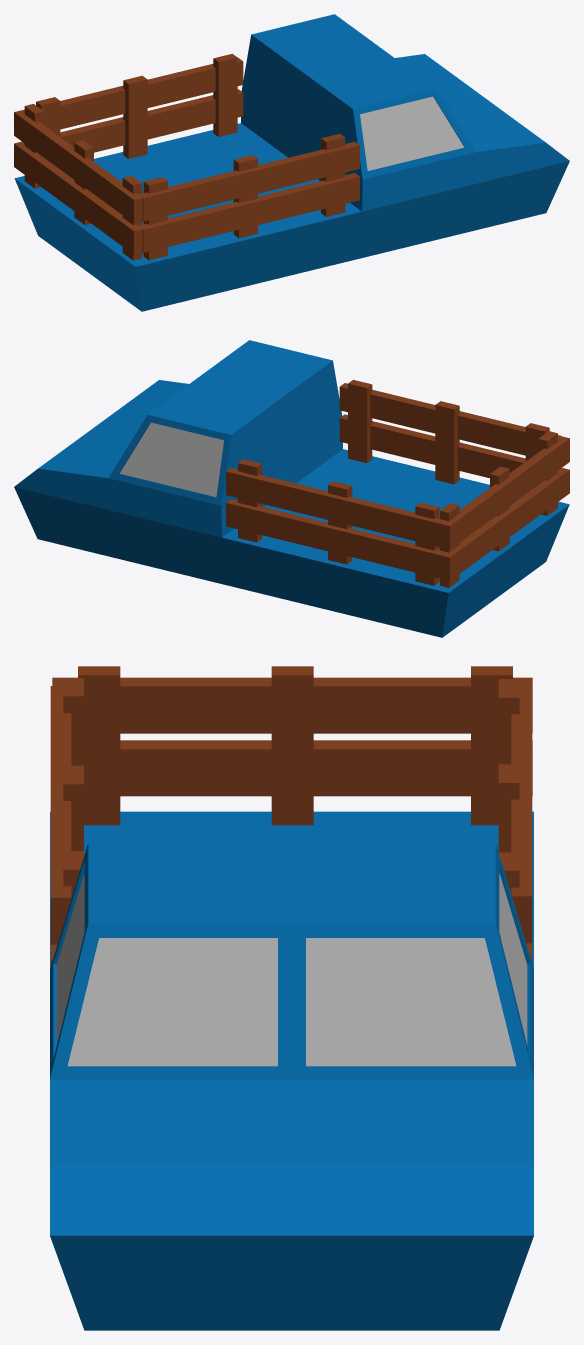
File: Car2.glb
3 views of the same model, one above another, from view 1: azimuth 30°, elevation 25°; view 2: azimuth 150°, elevation 25°; view 3: azimuth 270°, elevation 25° (orthographic). The views are drawn at different scales.
Parts seen in each view (by area): view 1: Cube.013, Car2, Cube.015, Cube.012, Cube.011; view 2: Cube.013, Car2, Cube.012, Cube.015, Cube.011; view 3: Cube.013, Car2, Cube.011, Cube.012, Cube.015.
Part boxes in pixels (<box>): Cube.013: <box>241,14,569,211</box>; Car2: <box>14,123,569,311</box>; Cube.015: <box>138,134,359,260</box>; Cube.012: <box>24,53,243,158</box>; Cube.011: <box>14,104,142,260</box>; Cube.013: <box>14,340,342,537</box>; Car2: <box>14,449,569,637</box>; Cube.012: <box>226,459,445,585</box>; Cube.015: <box>339,379,561,484</box>; Cube.011: <box>440,431,569,587</box>; Cube.013: <box>50,842,533,1235</box>; Car2: <box>50,811,533,1330</box>; Cube.011: <box>52,666,532,825</box>; Cube.012: <box>498,679,532,962</box>; Cube.015: <box>50,678,83,965</box>.
Bounding box in the file's own units: 2.91 × 0.9586 × 1.4.
